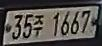1: (51, 10, 60, 37)
3: (12, 13, 23, 42)
5: (23, 13, 33, 39)
6: (60, 11, 71, 37), (71, 11, 80, 35)
7: (81, 10, 91, 33)
주: (33, 12, 44, 39)
